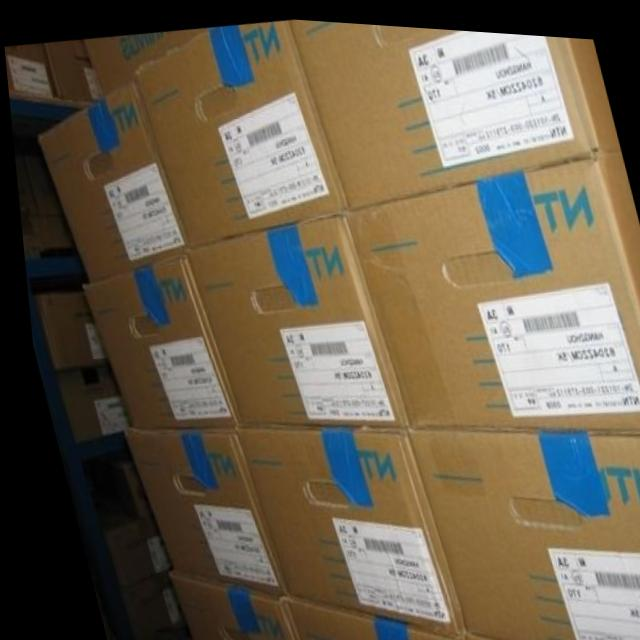box: (341, 144, 640, 423), (286, 15, 619, 209), (400, 422, 640, 640), (132, 16, 343, 247), (227, 422, 456, 629), (180, 211, 399, 422), (34, 78, 185, 282), (77, 252, 229, 428), (115, 425, 275, 591), (157, 568, 286, 640), (83, 25, 210, 97), (273, 591, 456, 640), (26, 291, 103, 370), (49, 365, 122, 441), (92, 513, 161, 586), (108, 570, 174, 640), (43, 38, 100, 100), (17, 215, 74, 261), (4, 44, 51, 97), (22, 154, 61, 217), (100, 462, 142, 518), (12, 158, 36, 218), (456, 631, 504, 640)
